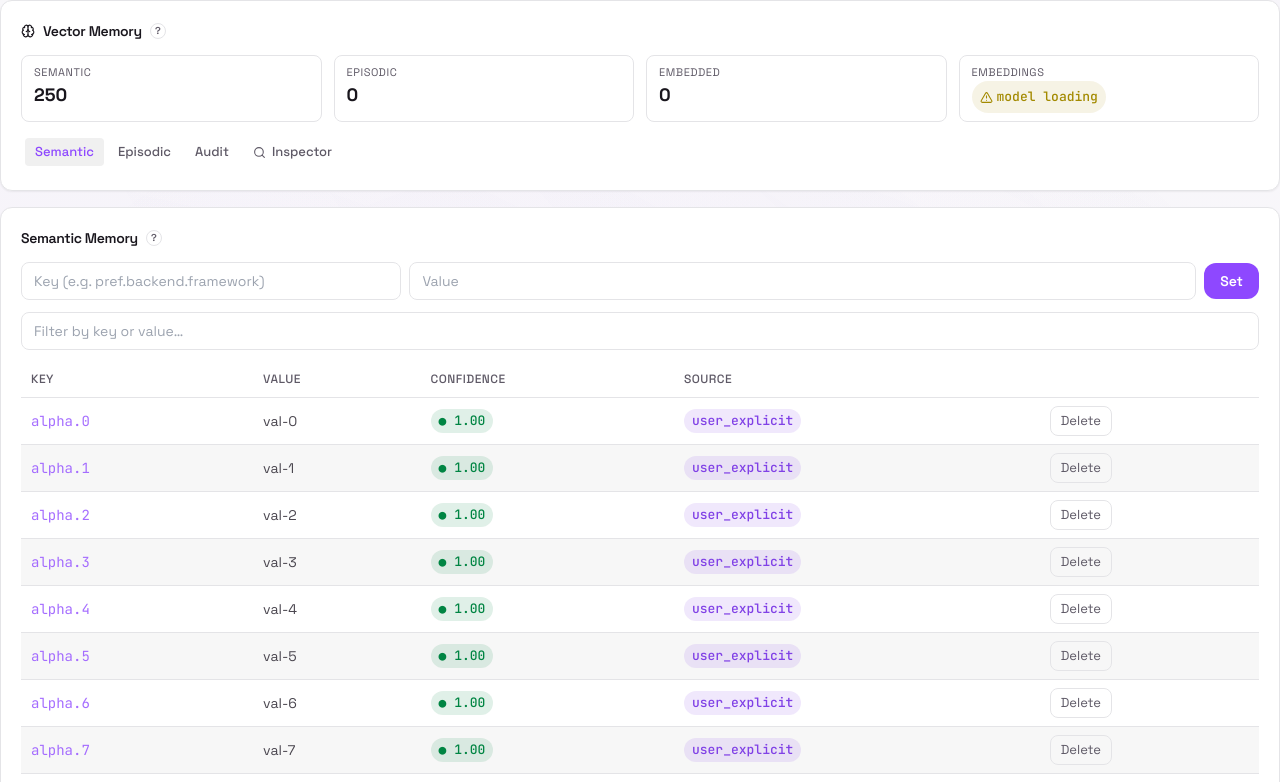
Scenario: VectorMemoryCard — Semantic Memory render cap › shows a no-match state and hides the footer when nothing matches
The width and height of the screenshot is (1280, 782).
Expected: the text "alpha.0" is shown, [21,397,253,444]
Type "no-such-entry-xyzzy" into the field with placeholder "Filter by key or value…" at [640, 331], box [21,312,1259,350]
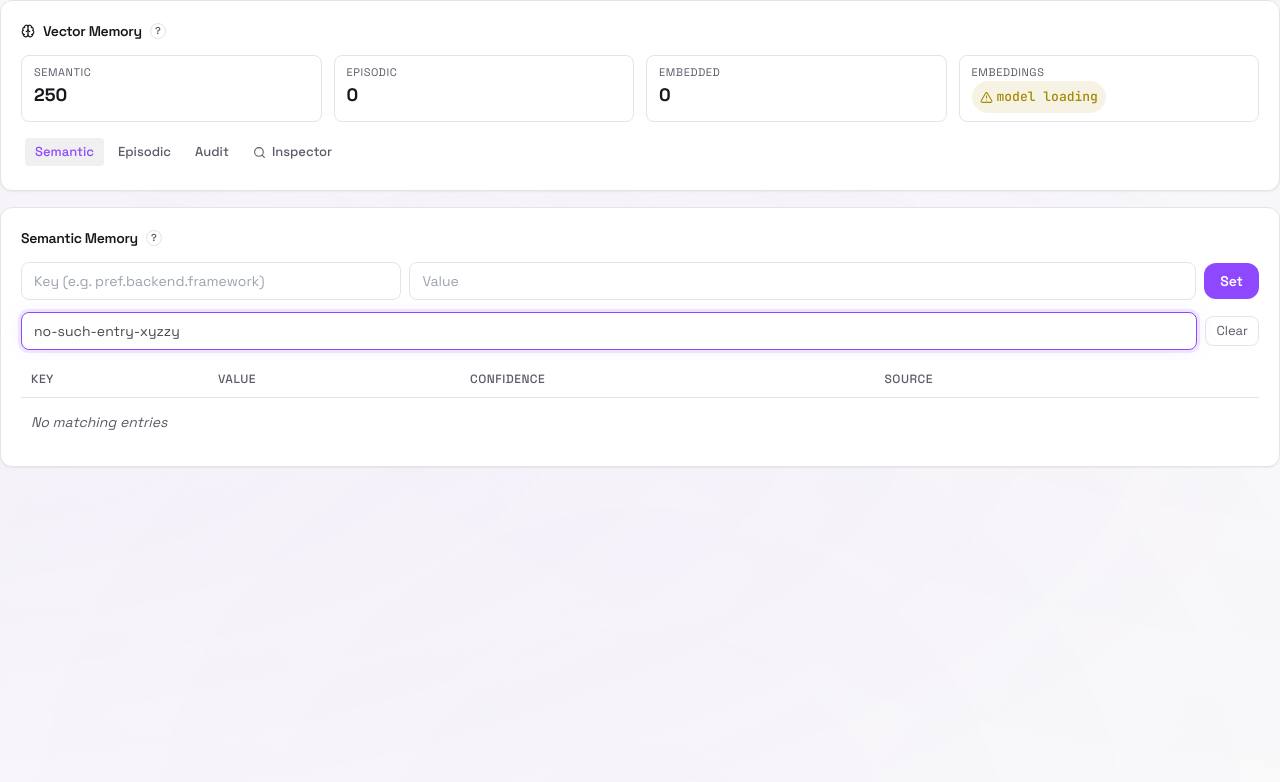
Now the text "No matching entries" is shown, box [21,397,1259,446]
